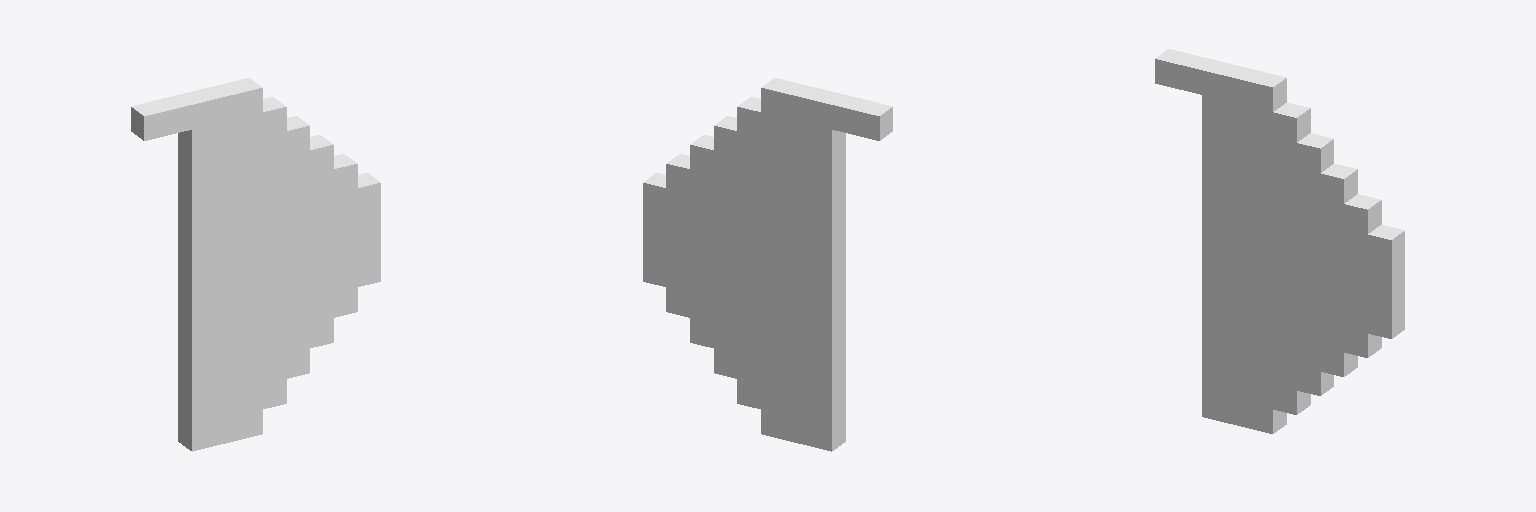
File: bluefish-1.obj
3 views of the same model, side by side, from view 1: azimuth 30°, elevation 25°; view 2: azimuth 150°, elevation 25°; view 3: azimuth 330°, elevation 25° (orthographic).
Visible parts, largest first — view 1: object 1; view 2: object 1; view 3: object 1.
Part boxes in pixels (bbox=[...]): object 1: bbox=[131, 78, 380, 451]; object 1: bbox=[643, 78, 892, 451]; object 1: bbox=[1155, 49, 1404, 433].
Size of the model in its own units: 1 by 1.4 by 0.1.